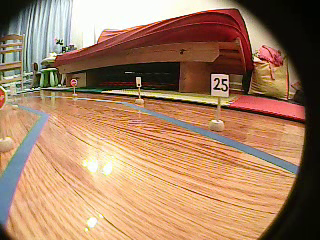Green Traffic Light: (136, 76, 142, 86)
Speed Limit 25: (211, 74, 230, 96)
Stop Sign: (1, 86, 9, 111), (70, 78, 78, 87)
